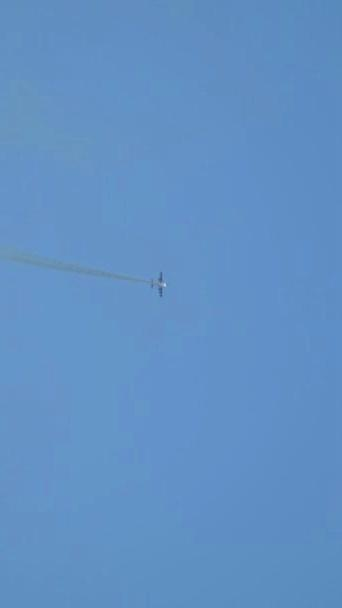Plane: (143, 261, 174, 309)
